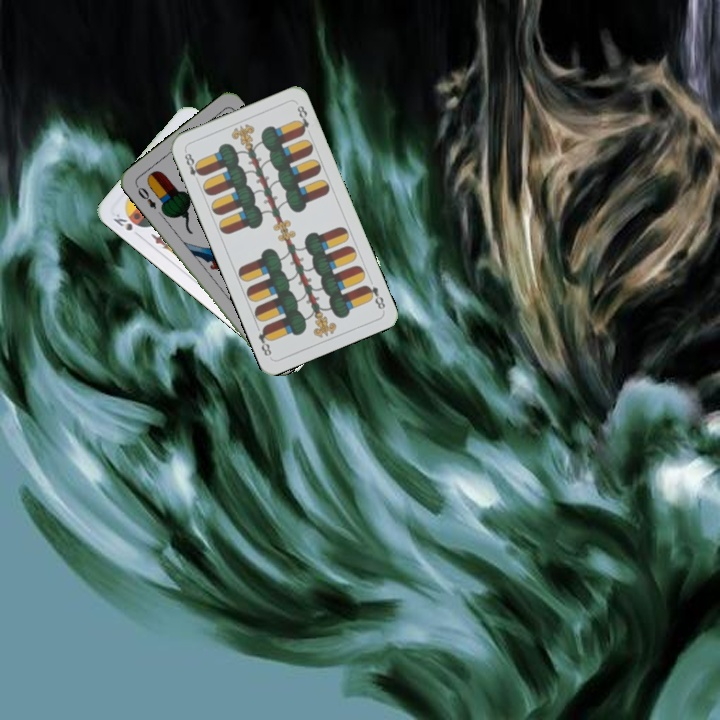E8: (180, 146, 205, 186), (361, 281, 388, 312)
EO: (132, 181, 159, 212)
SK: (109, 209, 135, 233)
